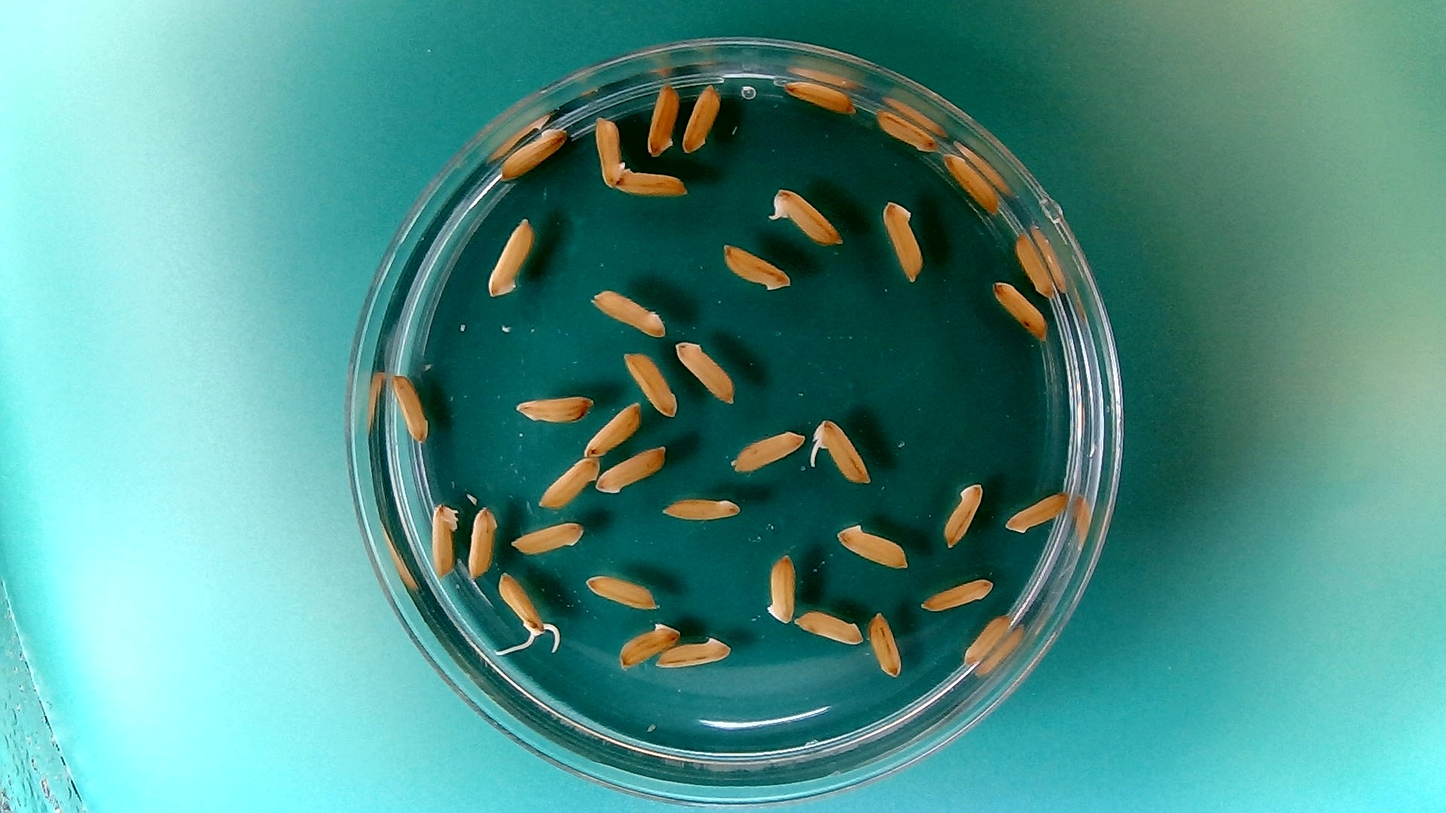no: (484, 212, 536, 299), (497, 120, 572, 180), (673, 337, 737, 403), (587, 286, 669, 336), (940, 148, 1003, 212), (880, 196, 926, 283), (622, 347, 679, 417), (833, 518, 911, 569), (990, 277, 1049, 341), (535, 452, 600, 510), (595, 443, 667, 495), (720, 242, 792, 293), (581, 398, 644, 456), (614, 619, 682, 671), (728, 428, 806, 473), (1003, 488, 1072, 535), (389, 370, 431, 446), (680, 80, 723, 154), (941, 478, 985, 549), (873, 105, 939, 152), (917, 575, 996, 614), (583, 571, 660, 611), (1013, 228, 1056, 298), (509, 518, 585, 556), (779, 78, 857, 115), (592, 111, 629, 187), (792, 606, 864, 645), (865, 607, 904, 679), (962, 611, 1013, 666), (514, 391, 596, 425), (654, 633, 731, 669), (464, 503, 500, 580), (657, 494, 744, 525), (645, 80, 679, 157), (428, 500, 460, 580), (764, 550, 798, 625), (613, 164, 688, 196)
yes: (764, 184, 846, 247), (808, 416, 872, 486), (496, 568, 551, 637)
